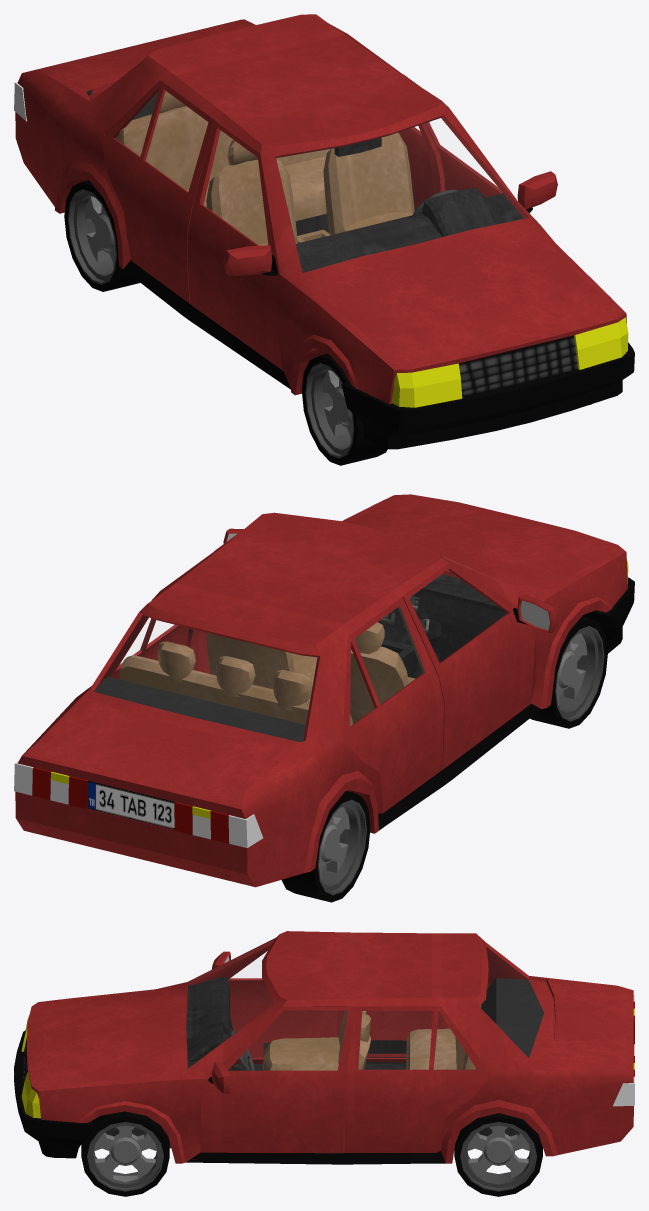
The model's file is Tofaş (1).fbx.
The picture shows the model from 3 angles, top to bottom: view 1: azimuth 30°, elevation 25°; view 2: azimuth 150°, elevation 25°; view 3: azimuth 270°, elevation 25°; orthographic projection. The views are drawn at different scales.
Visible parts, largest first — view 1: Tofas, SağKapı, Plane.002, RightUp, RightBack, SolKapı, Plane.005; view 2: Tofas, SağKapı, Plane.002, RightBack, RightUp, Plane.005, SolKapı; view 3: Tofas, SolKapı, Plane.005, LeftUp, LeftBack, SağKapı, Plane.002.
Boxes of the visible parts, x1,y1,x2,y2 form: Tofas: (14,14,634,449); SağKapı: (187,120,282,370); Plane.002: (102,80,214,303); RightUp: (301,353,387,465); RightBack: (64,180,140,291); SolKapı: (403,74,557,212); Plane.005: (364,46,432,210); Tofas: (14,494,634,887); SağKapı: (403,563,557,770); Plane.002: (343,597,443,812); RightBack: (281,791,370,902); RightUp: (530,616,607,728); Plane.005: (110,551,214,679); SolKapı: (198,528,243,673); Tofas: (14,931,634,1164); SolKapı: (200,1006,354,1153); Plane.005: (344,1006,487,1152); LeftUp: (81,1111,169,1196); LeftBack: (454,1113,542,1196); SağKapı: (211,947,337,1058); Plane.002: (366,984,487,1057).
Size of the model in its own units: 1.64 by 1.1 by 3.38.
10 materials, 2 textured.
